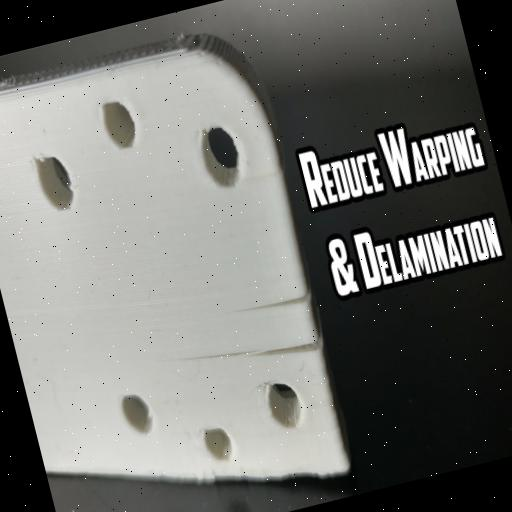cracks: (194, 273, 337, 392)
